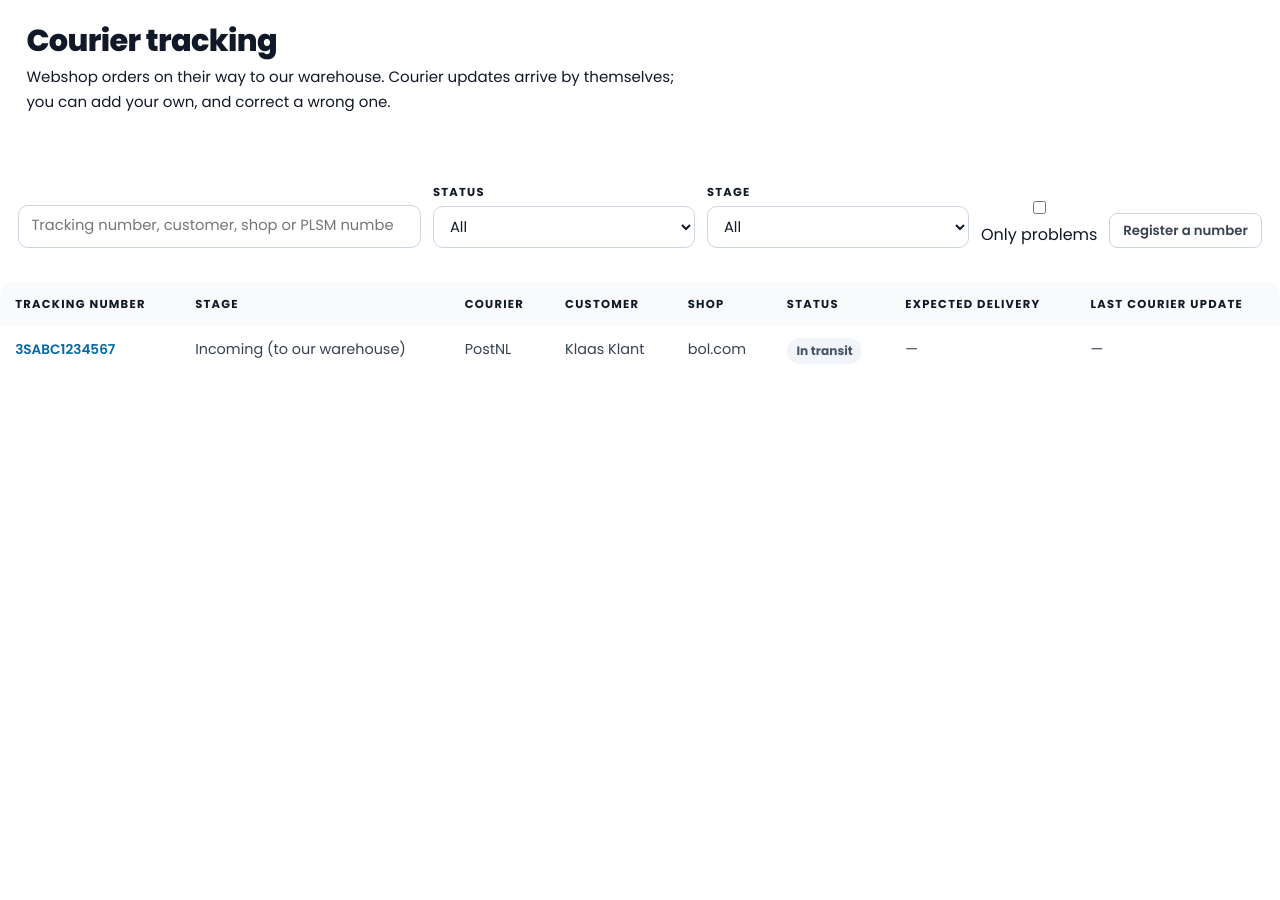
Courier tracking page › lists shipments and opens one
Click the button "3SABC1234567": {"x": 65, "y": 350} [15,339,115,361]
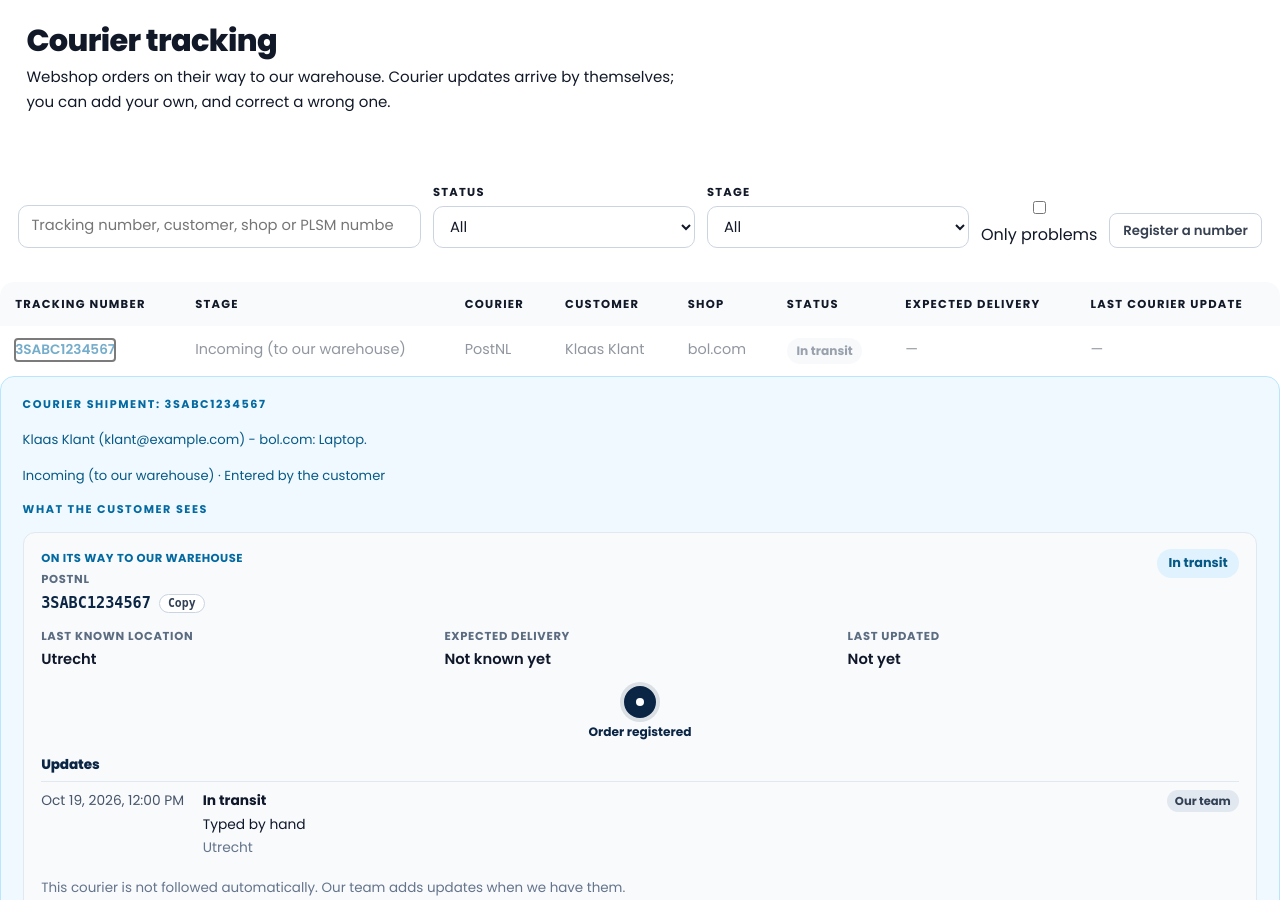
Expected: the text "Klaas Klant" is shown, [550,326,672,376]
Expected: the heading "What the customer sees" is shown, [23,501,208,517]
